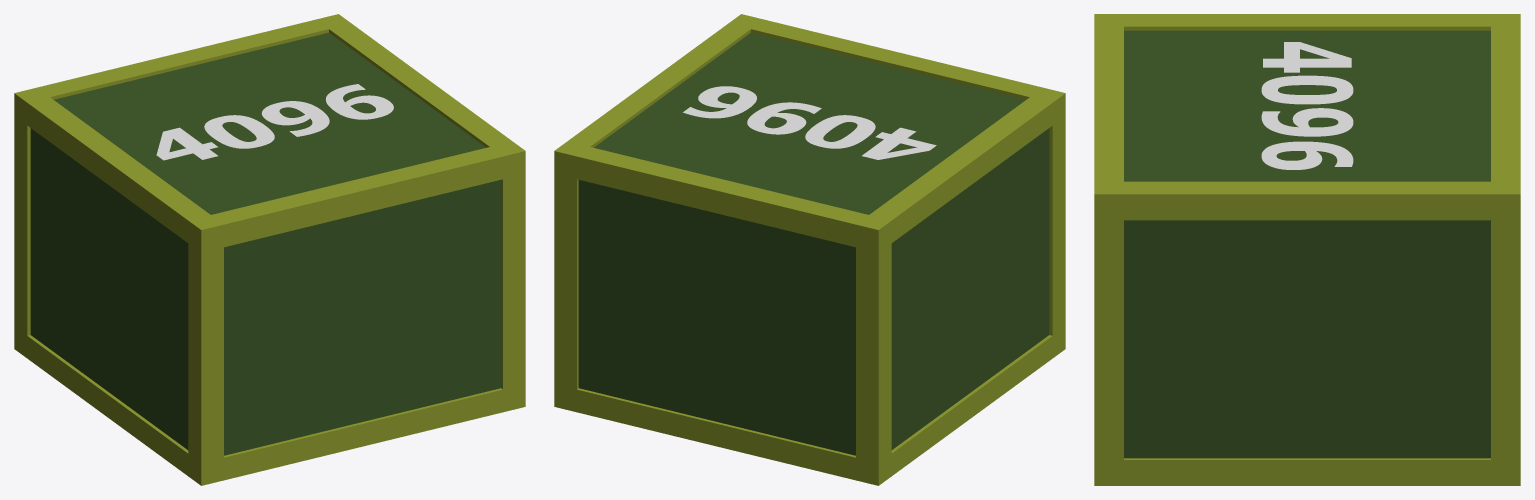
File: 4096Prefab.fbx
The picture shows the model from 3 angles, left to right: view 1: azimuth 30°, elevation 25°; view 2: azimuth 150°, elevation 25°; view 3: azimuth 270°, elevation 25°; orthographic projection. The views are drawn at different scales.
Visible parts, largest first — view 1: Text.008; view 2: Text.008; view 3: Text.008.
Boxes of the visible parts, box(x1,y1,x2,y2) form: Text.008: box(14, 14, 525, 485); Text.008: box(554, 14, 1065, 485); Text.008: box(1094, 14, 1520, 485).
Size of the model in its own units: 194 by 146 by 194.
